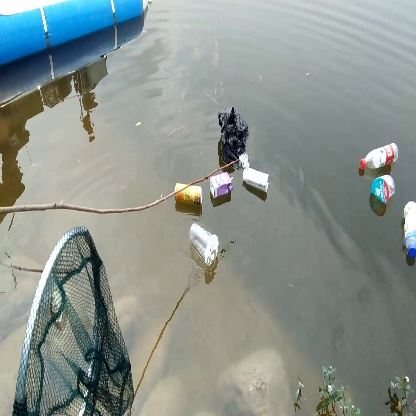bottle: (185, 217, 228, 270), (357, 139, 400, 173), (171, 181, 207, 206)
milk-box: (208, 169, 236, 201)
plastic-bag: (216, 108, 249, 165)
